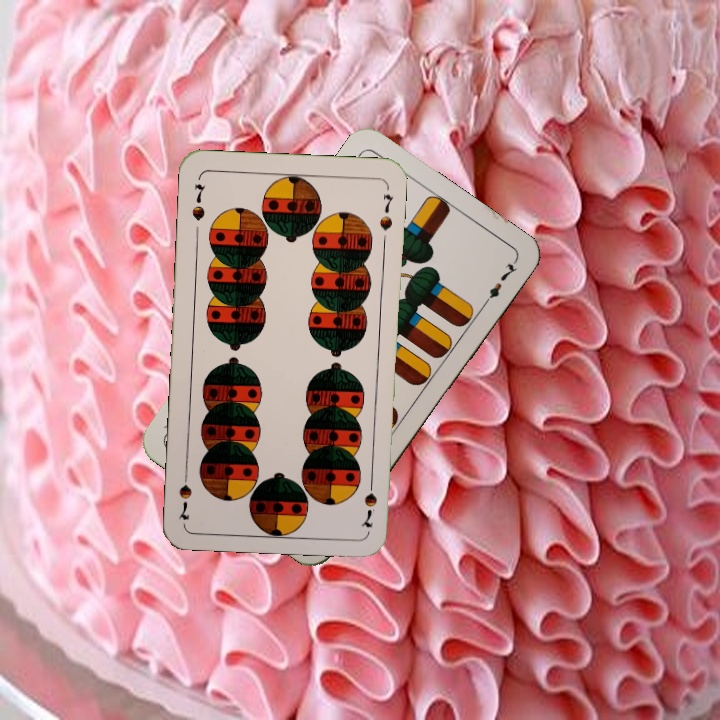S7: (357, 472, 380, 530), (188, 179, 208, 224)
